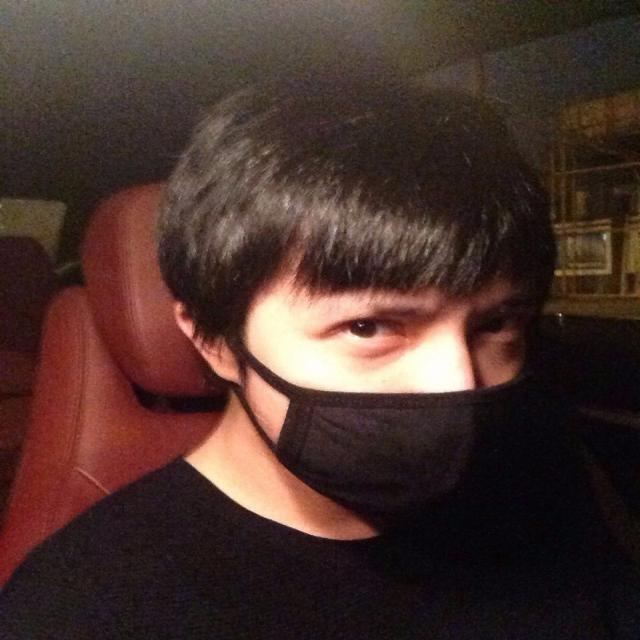mask: (251, 207, 529, 516)
